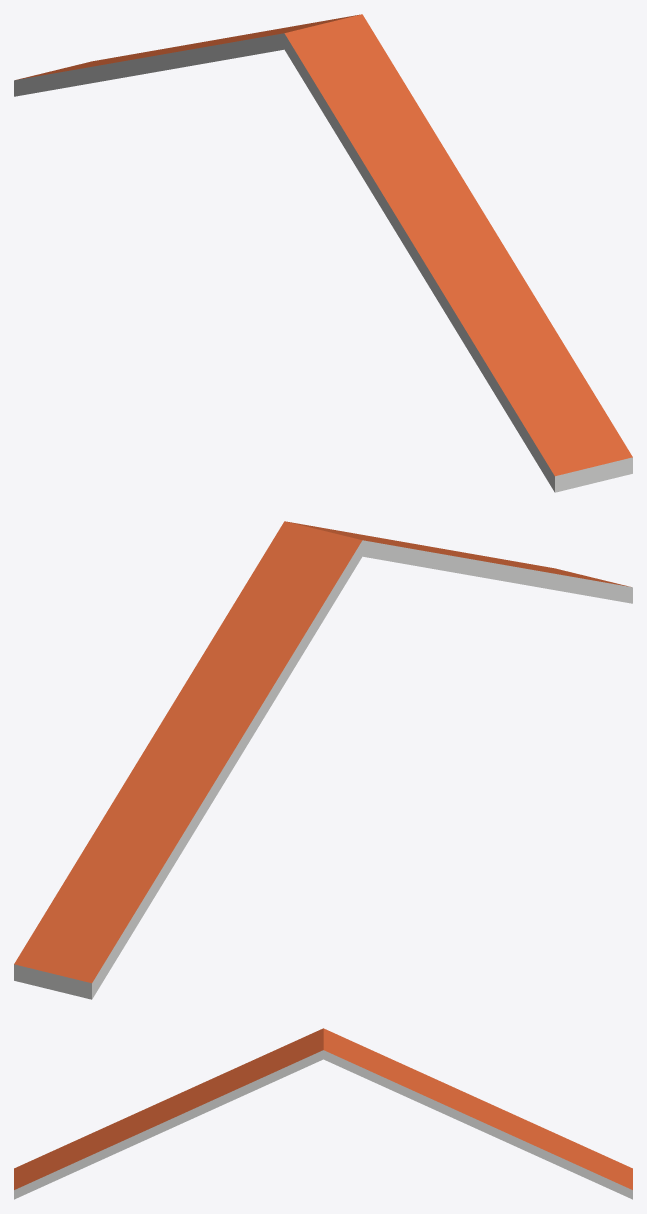
Rendered from telhado_duas_aguas_v6_i50_0_5m.glb.
The picture shows the model from 3 angles, top to bottom: view 1: azimuth 30°, elevation 25°; view 2: azimuth 150°, elevation 25°; view 3: azimuth 270°, elevation 25°; orthographic projection. The views are drawn at different scales.
Visible parts, largest first — view 1: telhado_duas_aguas_v6_i50_0_5m; view 2: telhado_duas_aguas_v6_i50_0_5m; view 3: telhado_duas_aguas_v6_i50_0_5m.
Boxes of the visible parts, x1,y1,x2,y2 form: telhado_duas_aguas_v6_i50_0_5m: [14, 14, 632, 492]; telhado_duas_aguas_v6_i50_0_5m: [14, 521, 632, 999]; telhado_duas_aguas_v6_i50_0_5m: [14, 1028, 632, 1199].
Size of the model in its own units: 0.5 by 1.6 by 6.
